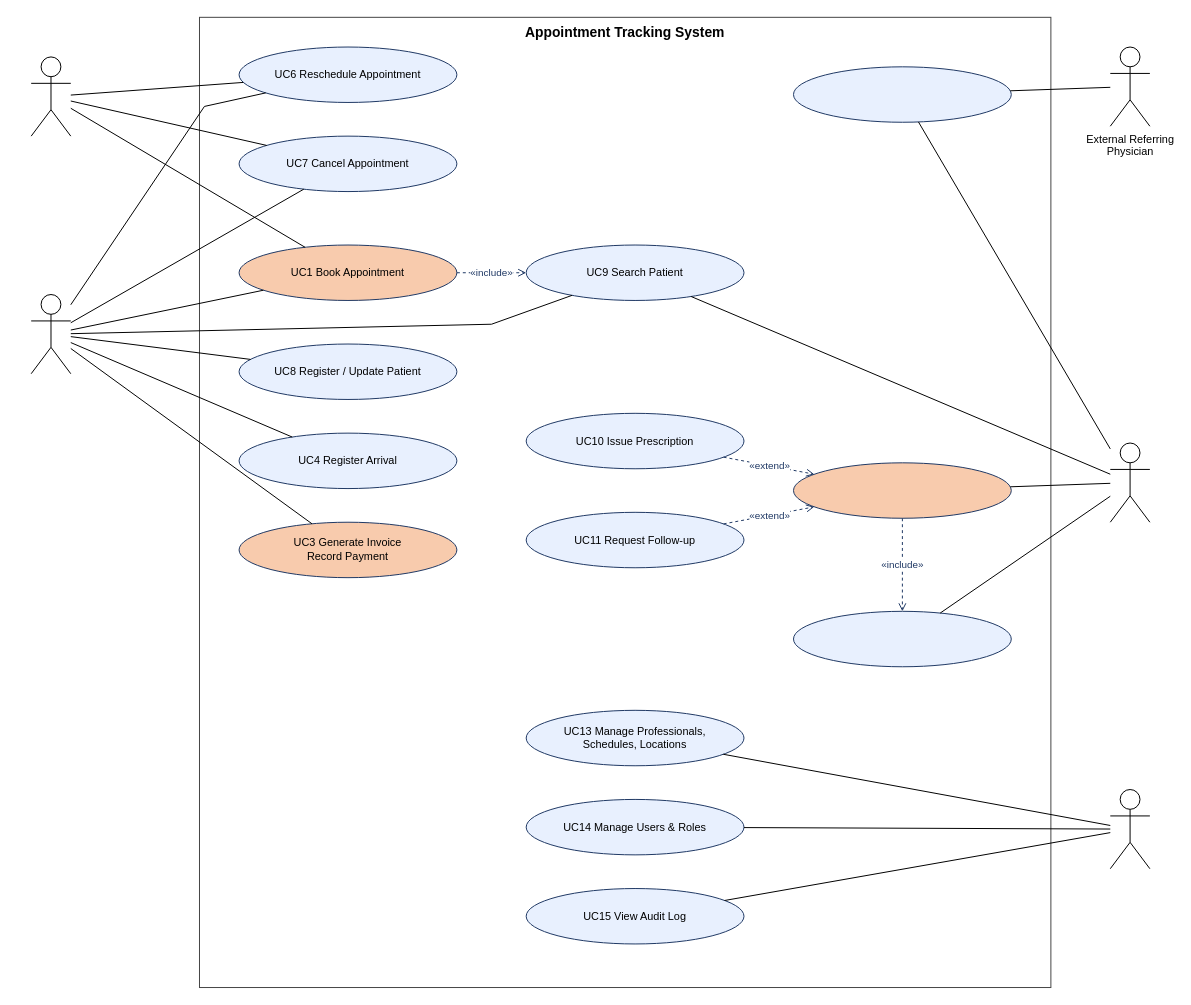
Some shapes in this 1191 by 1005 pixel diagram are drawn without their labels. Here are the shapes that lost their labels. From the top down, the box of each, then its label:
(30, 56, 71, 136): Patient
(792, 66, 1011, 122): UC5 Issue Referral
(30, 294, 71, 374): Administrative Staff
(792, 462, 1011, 518): UC2 Record Consultation
(1109, 442, 1150, 522): Healthcare Professional
(792, 610, 1011, 667): UC12 View Clinical Record
(1109, 789, 1150, 869): Clinic Administrator
